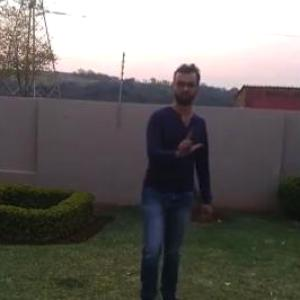land_hand: (168, 120, 204, 161)
